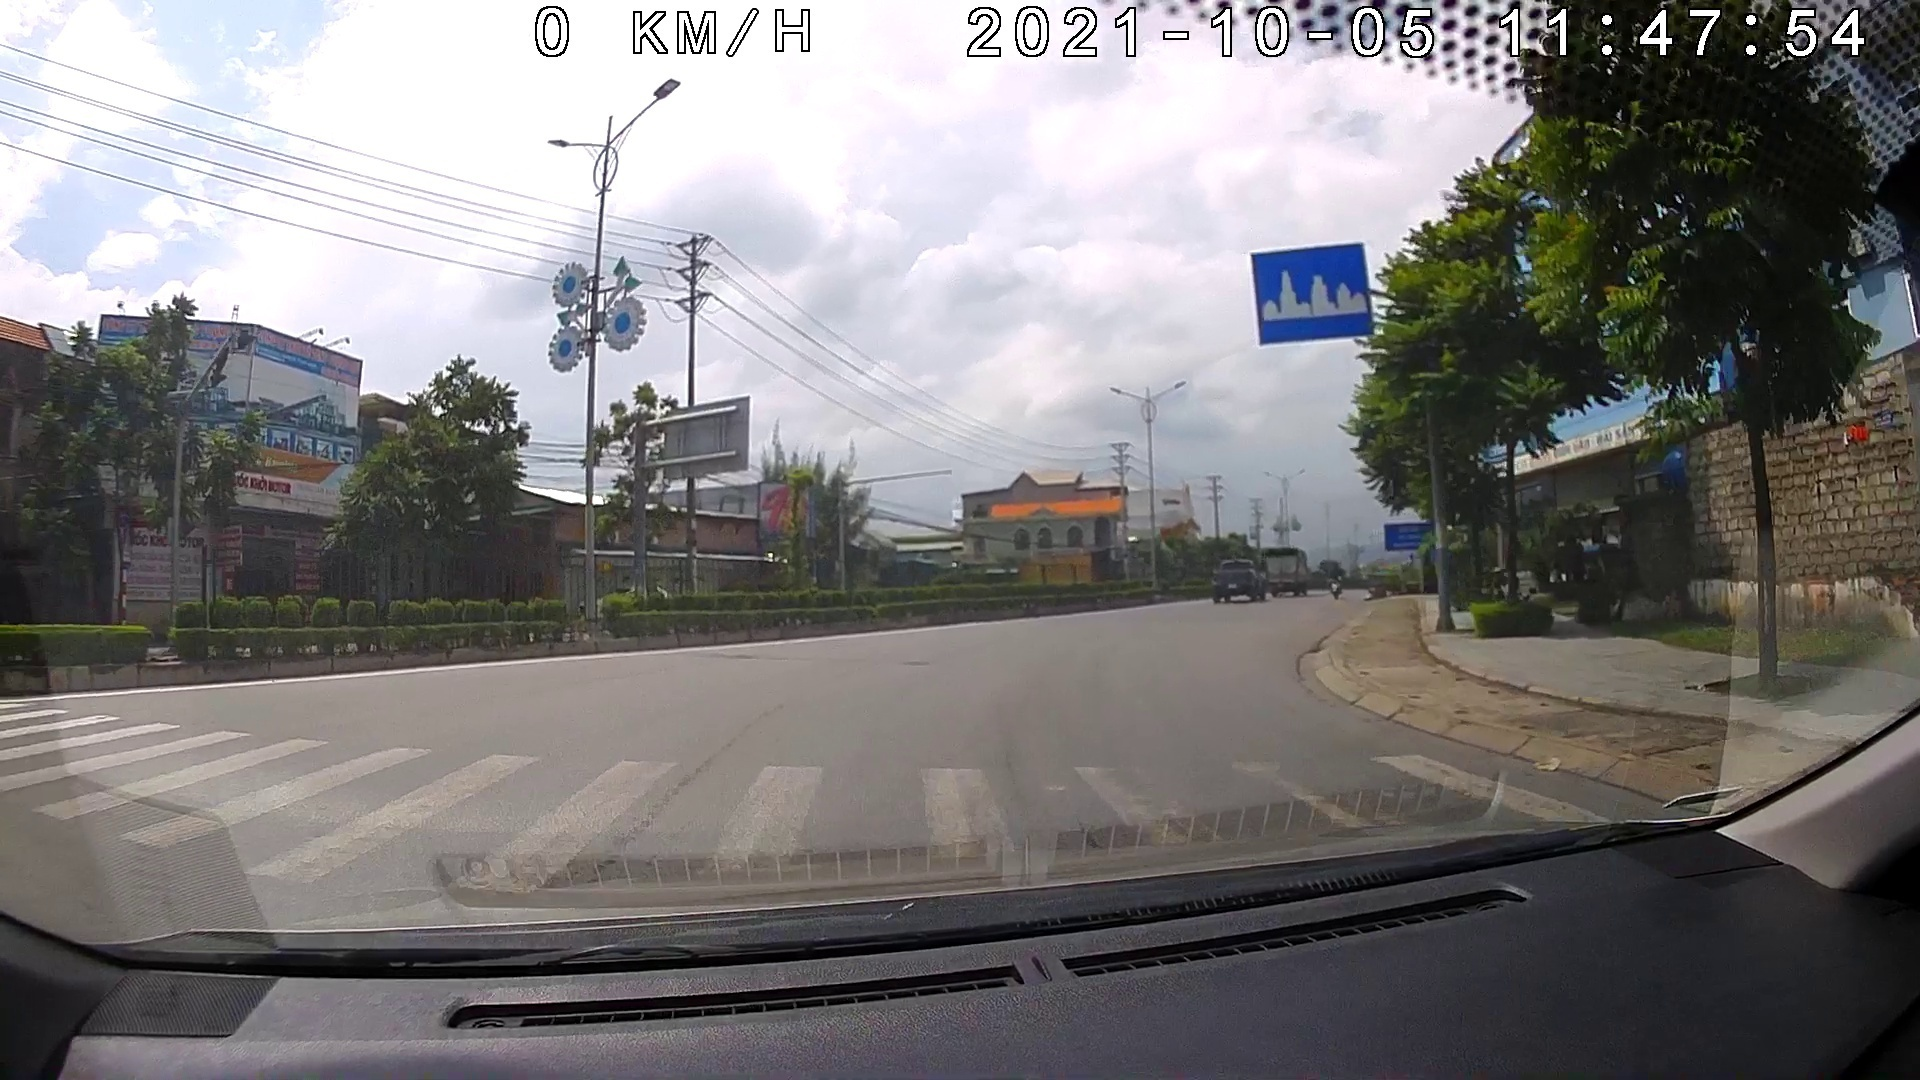Bien khac: (1249, 240, 1378, 351)
